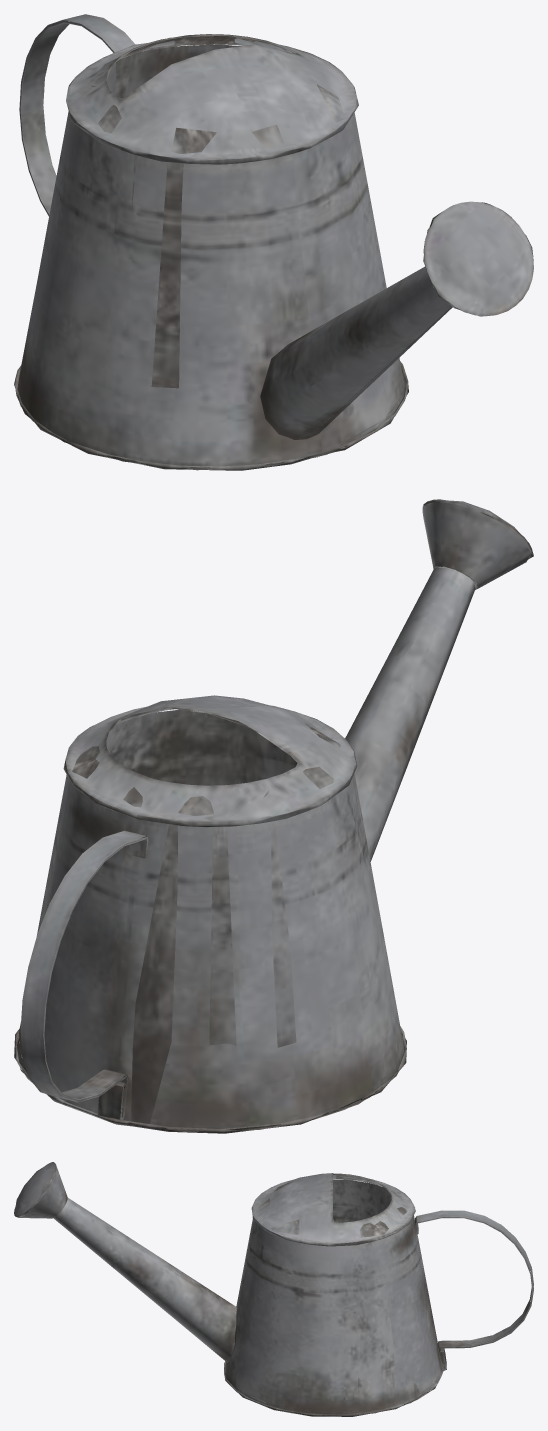
The model's file is ph_watering_can_metal_01.glb.
The picture shows the model from 3 angles, top to bottom: view 1: azimuth 30°, elevation 25°; view 2: azimuth 150°, elevation 25°; view 3: azimuth 270°, elevation 25°; orthographic projection. The views are drawn at different scales.
Parts seen in each view (by area): view 1: watering_can_metal_01; view 2: watering_can_metal_01; view 3: watering_can_metal_01.
Boxes of the visible parts, x1,y1,x2,y2 form: watering_can_metal_01: (14, 14, 533, 470); watering_can_metal_01: (14, 499, 533, 1133); watering_can_metal_01: (14, 1162, 533, 1416).
Size of the model in its own units: 0.1914 by 0.1967 by 0.4521.
1 material, 1 textured.
